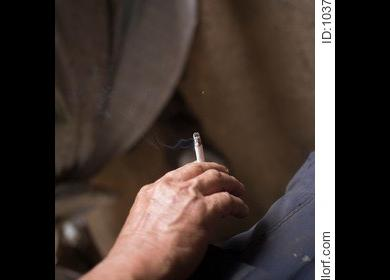Cigarette: (193, 133, 203, 167)
